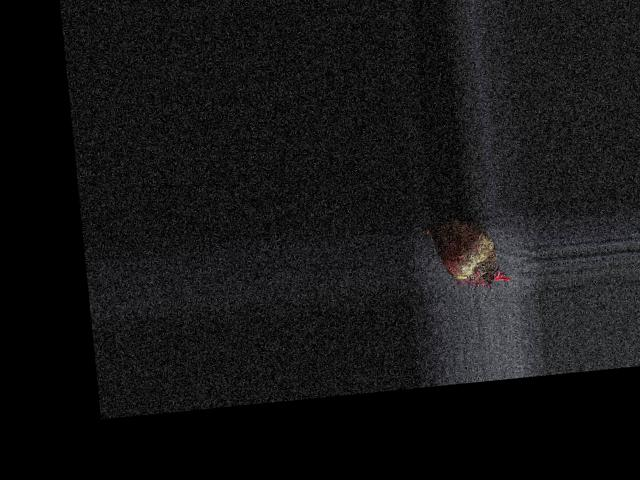beet: (419, 215, 512, 295)
